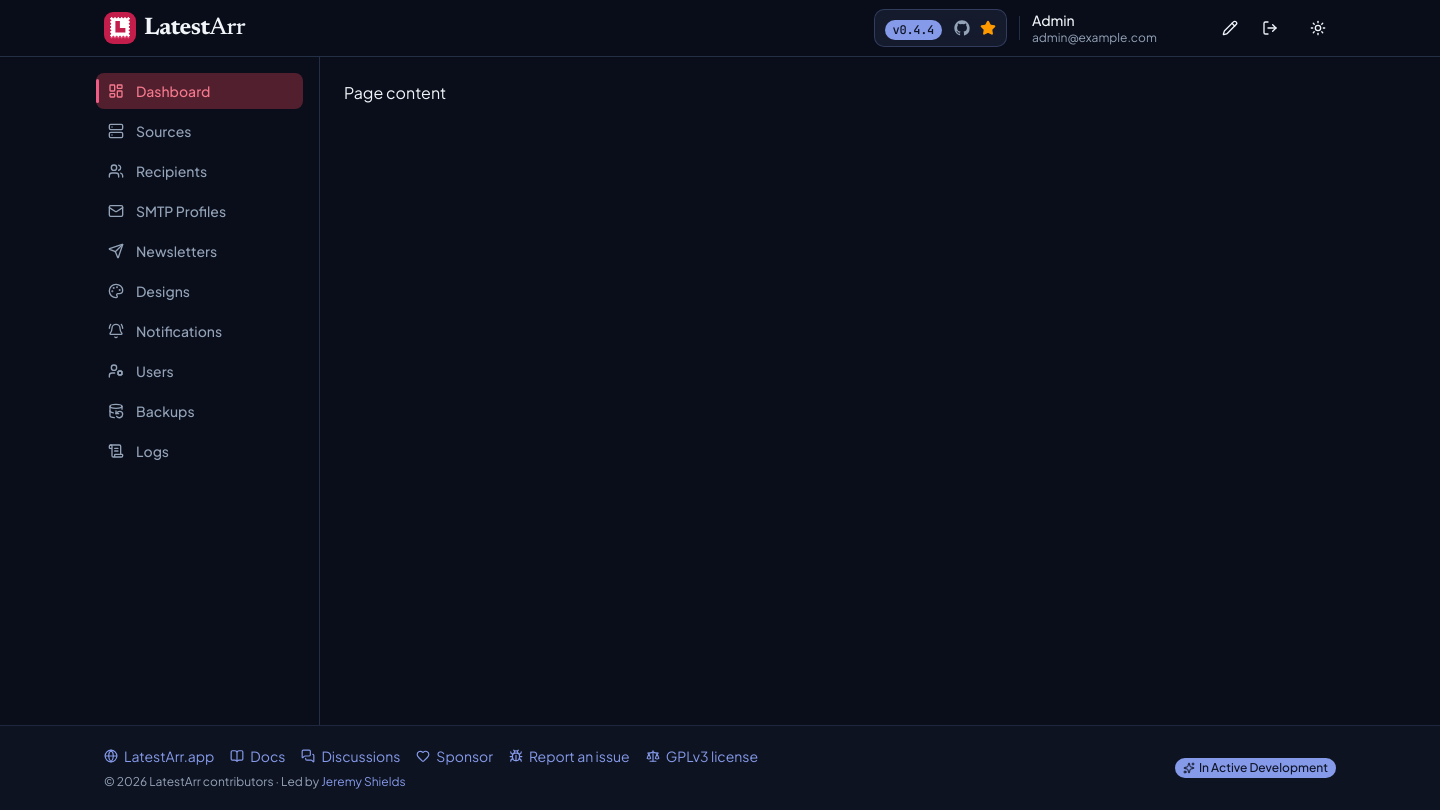
AppShell › opens a Star popover instead of linking straight out, with a link inside that goes to GitHub
This screenshot has width=1440, height=810.
Check: the link named "View on GitHub" is shown, box x1=954 y1=20 x2=970 y2=36
Click the button named "Star on GitHub" at [988, 28], box x1=974 y1=14 x2=1002 y2=42
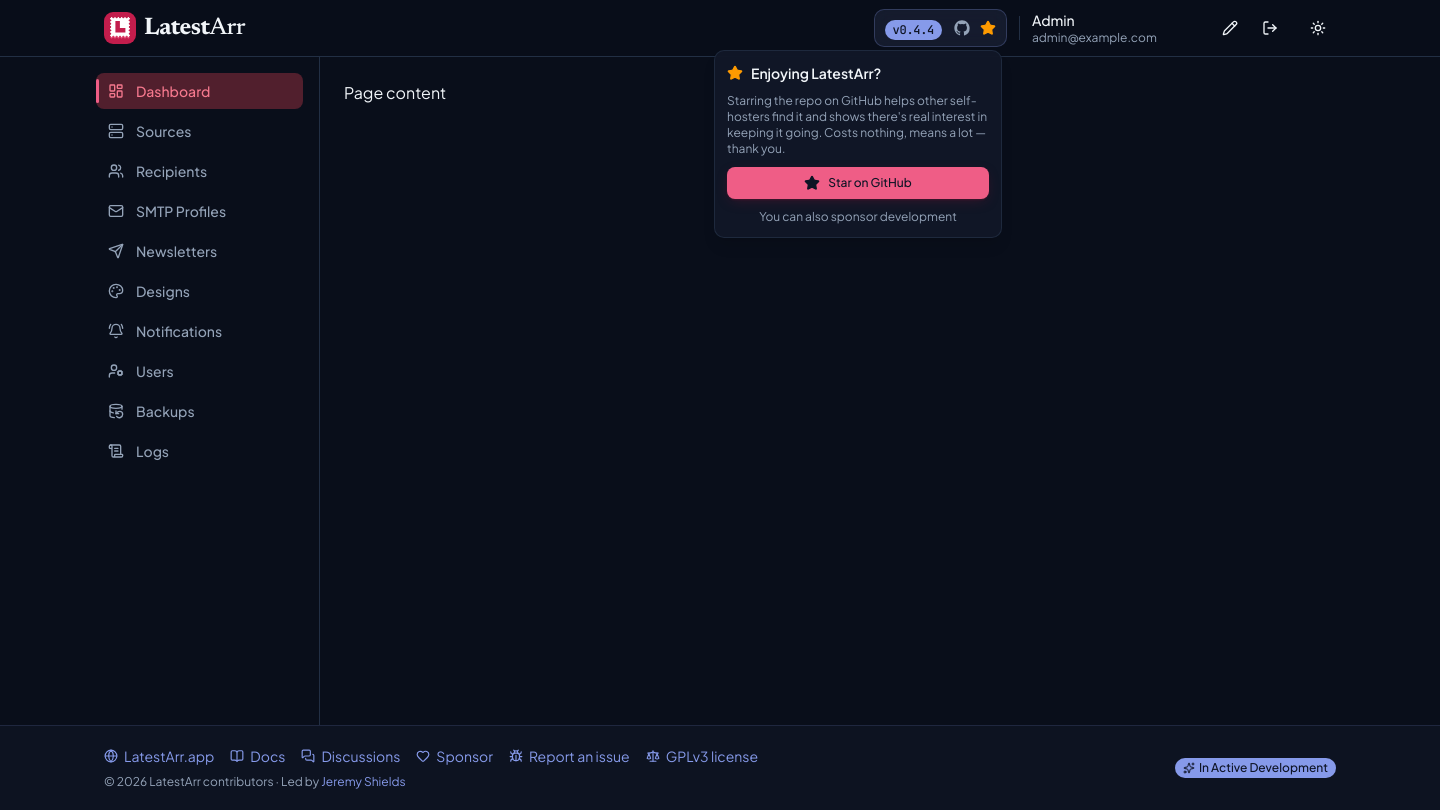
Check: the text "Enjoying LatestArr?" is shown, box x1=727 y1=64 x2=881 y2=82
